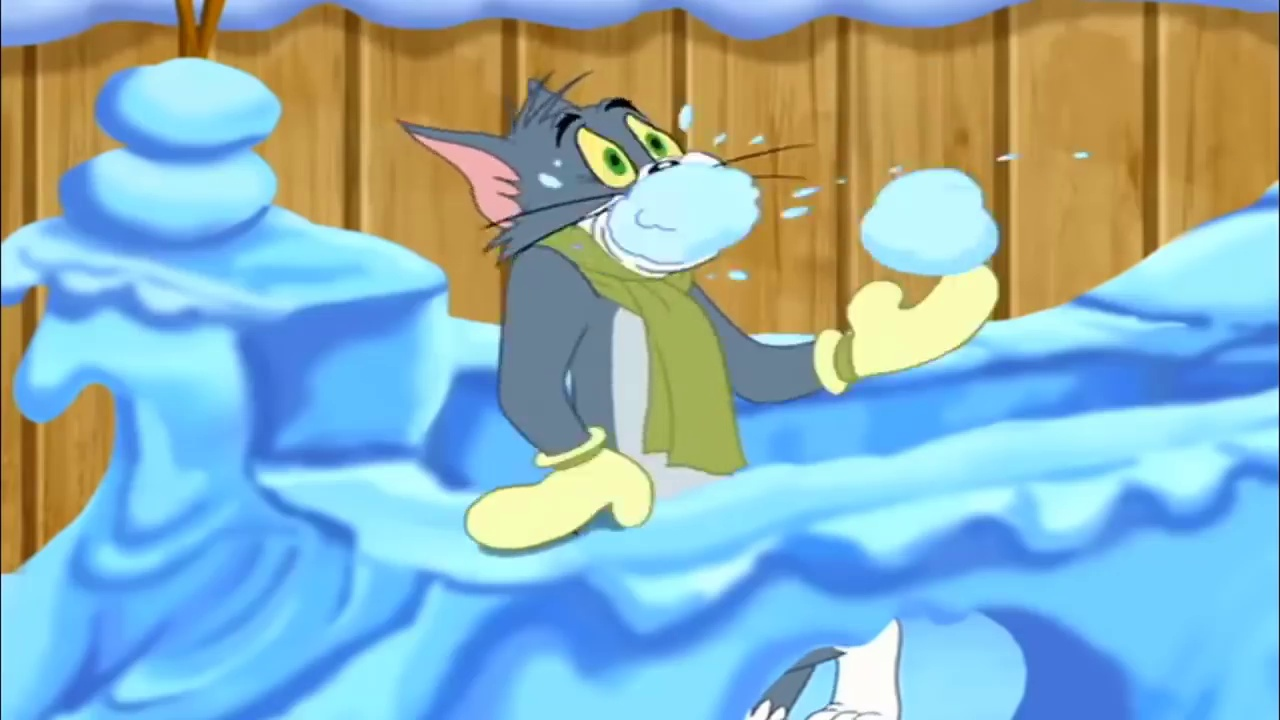face: (546, 97, 716, 270)
